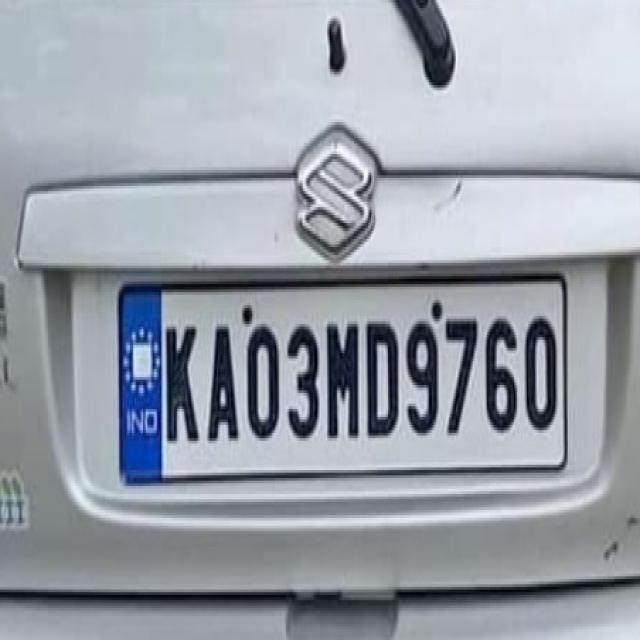0: (244, 302, 281, 453), (522, 315, 564, 443)
3: (286, 313, 320, 448)
6: (482, 314, 521, 434)
7: (441, 300, 483, 446)
9: (402, 313, 439, 448)
A: (203, 314, 240, 452)
D: (364, 312, 402, 450)
K: (161, 316, 203, 452)
M: (322, 309, 363, 448)
